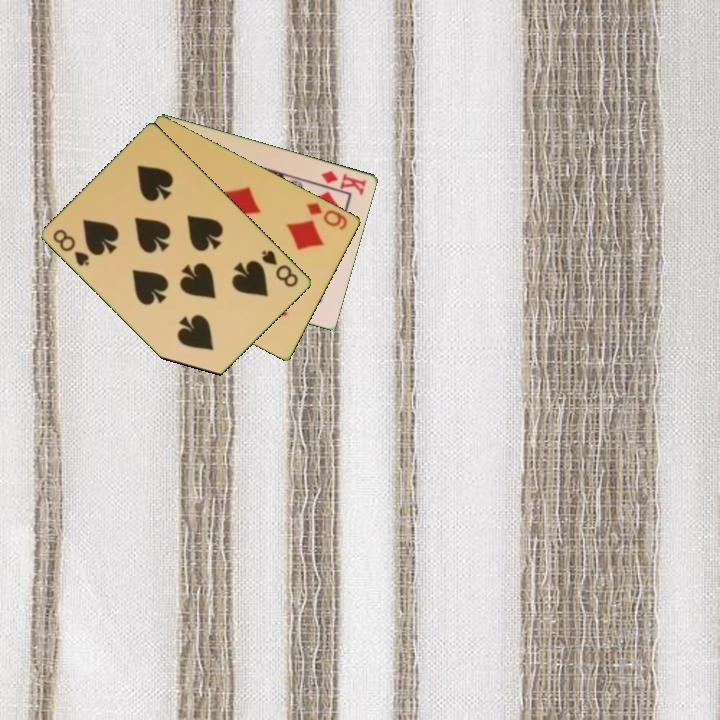6d: (303, 199, 351, 233)
8s: (258, 246, 301, 290), (50, 225, 93, 269)
Kd: (318, 167, 370, 198)
